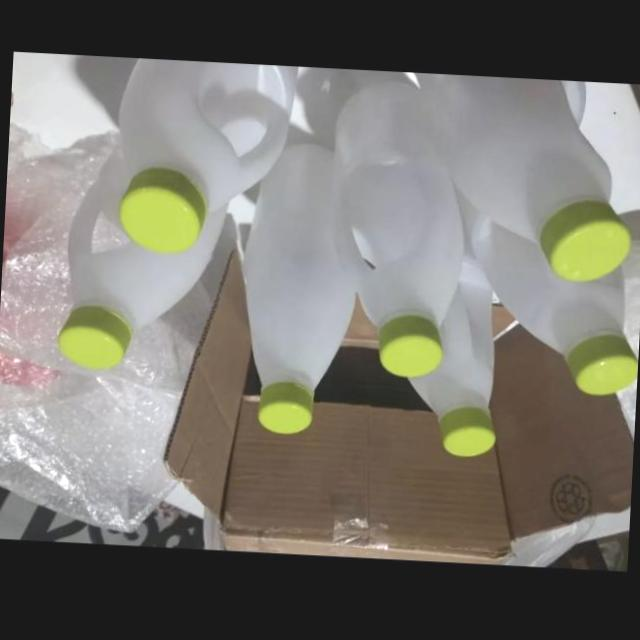carton: (165, 252, 634, 565)
chai_nhua: (415, 72, 632, 281), (57, 139, 231, 370), (335, 80, 466, 377), (458, 195, 638, 393), (117, 58, 298, 253), (242, 138, 355, 434), (409, 250, 496, 456)
